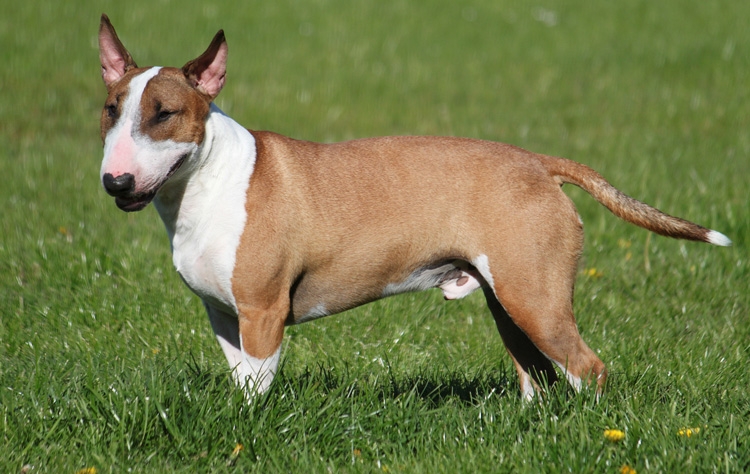bull_terrier: (96, 11, 732, 411)
